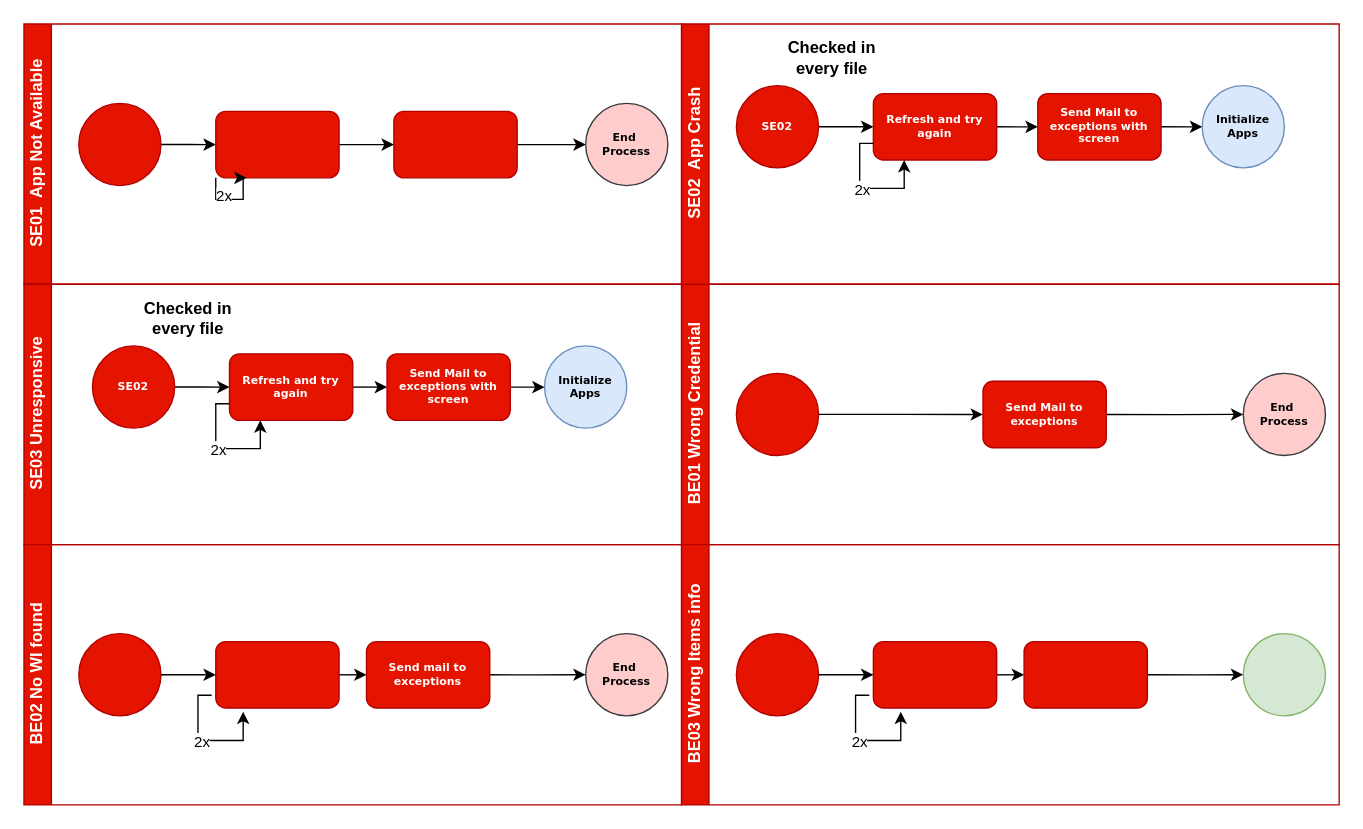
The diagram is 1363 pixels wide and 829 high, and some of its shapes have lost their labels. Here are the shapes that lost their labels. From the top down, the centre of each, then its label:
At point 119,144: "SE01".
At point 276,144: "Close Application and retry".
At point 455,144: "Send Mail To Exeptions".
At point 777,414: "BE01".
At point 119,674: "BE02".
At point 276,674: "Wait 30 mins and retry".
At point 777,674: "BE03".
At point 934,674: "Retry transaction".
At point 1085,674: "Set to faied and continue".
At point 1283,674: "get Queue item".
